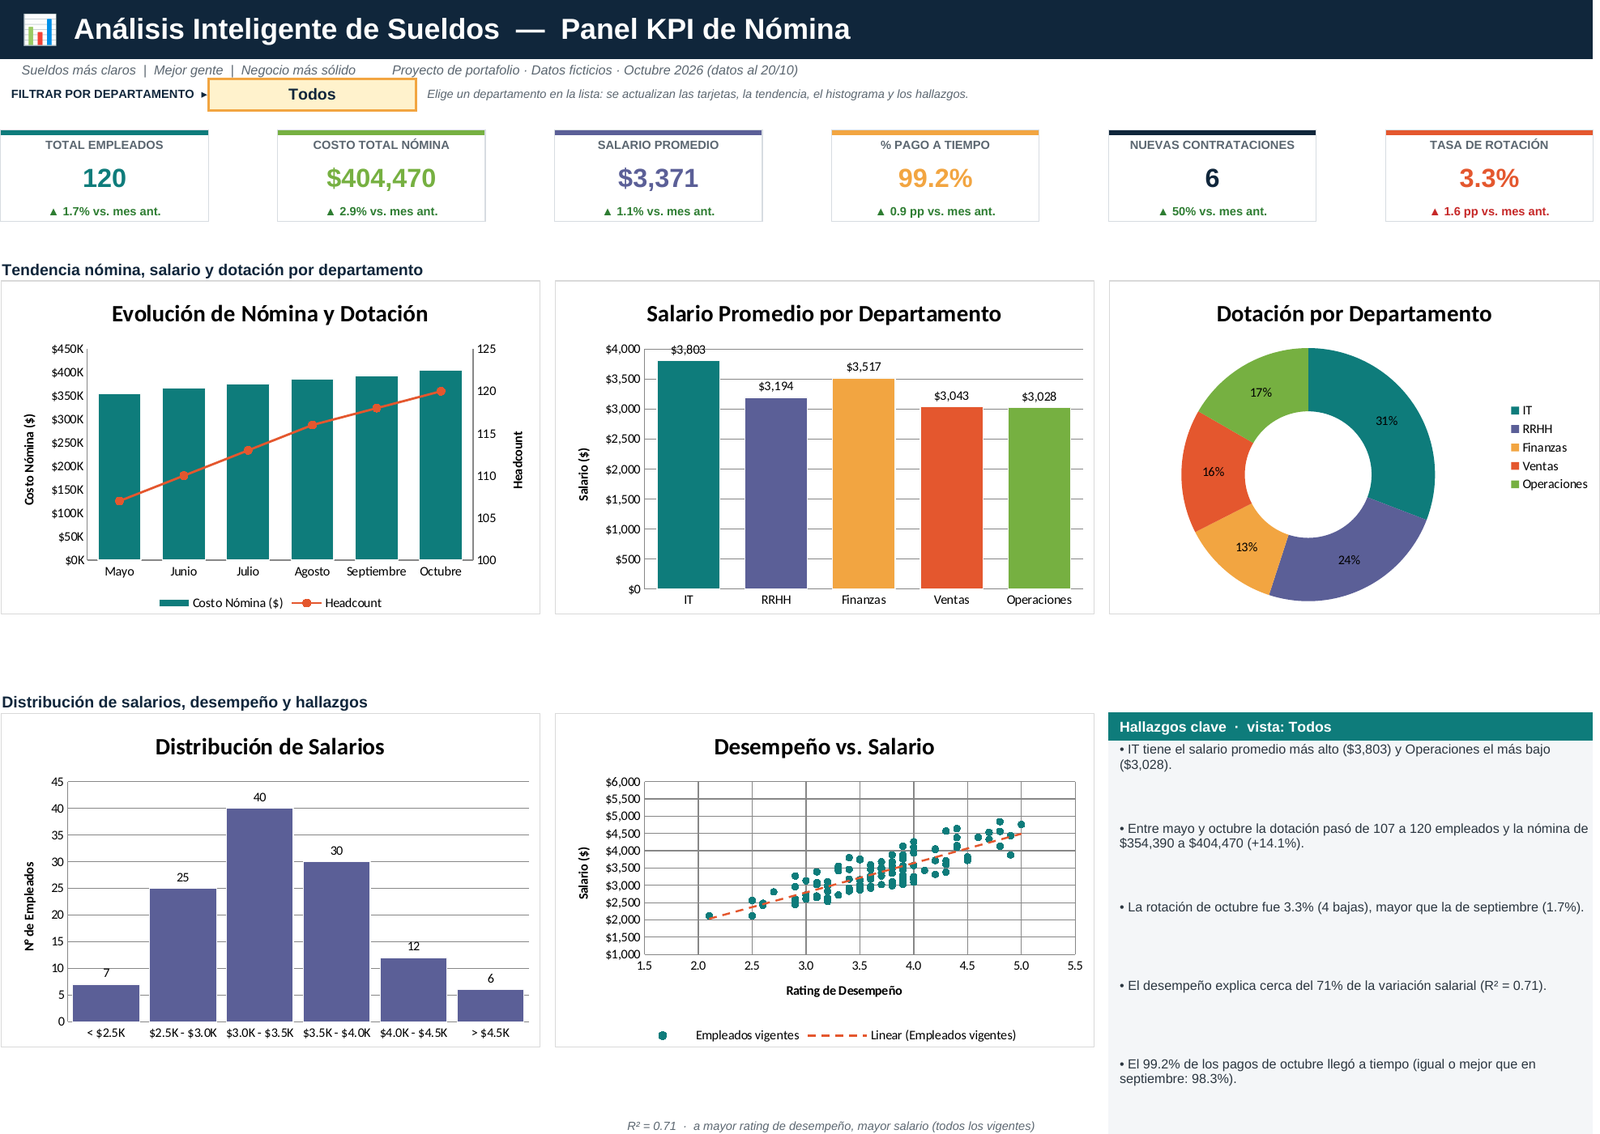

This screenshot's page, from the dashboard's own definition file:
{"tool":"powerbi","page":{"name":"Página 1","canvas":[1280,720],"ordinal":0},"visuals":[{"type":"cardVisual","fields":{"Data":["meses.Headcount"]},"box":[20,90,195,90],"z":0},{"type":"cardVisual","fields":{"Data":["meses.Etiqueta Headcount"]},"box":[20,165,195.9,90],"z":1000},{"type":"cardVisual","fields":{"Data":["empleados.Costo Nómina"]},"box":[225,90,195.9,90],"z":2000},{"type":"cardVisual","fields":{"Data":["meses.Etiqueta Costo Nómina"]},"box":[225,165,195,90],"z":3000},{"type":"cardVisual","fields":{"Data":["empleados.Salario Promedio"]},"box":[430,90,195,90],"z":4000},{"type":"cardVisual","fields":{"Data":["meses.Etiqueta Salario Promedio"]},"box":[430,165,195,90],"z":5000},{"type":"cardVisual","fields":{"Data":["empleados.% Pago a Tiempo"]},"box":[635,90,195,90],"z":6000},{"type":"cardVisual","fields":{"Data":["meses.Etiqueta Pago"]},"box":[635,165,165,90],"z":7000},{"type":"cardVisual","fields":{"Data":["empleados.Contrataciones"]},"box":[840,90,195,90],"z":8000},{"type":"cardVisual","fields":{"Data":["meses.Etiqueta Contrataciones"]},"box":[840,165,165,90],"z":9000},{"type":"cardVisual","fields":{"Data":["empleados.Rotación %"]},"box":[1045,90,195,90],"z":10000},{"type":"cardVisual","fields":{"Data":["meses.Etiqueta Rotación"]},"box":[1045,165,195,90],"z":11000},{"type":"slicer","fields":{"Values":["empleados.Departamento"]},"box":[20,15,195,90],"z":12000},{"type":"slicer","fields":{"Values":["empleados.Estado"]},"box":[225,15,195,90],"z":13000},{"type":"slicer","fields":{"Values":["empleados.Puesto"]},"box":[430,15,195,90],"z":14000},{"type":"slicer","fields":{"Values":["empleados.AnioIngreso"]},"box":[635,15,195,90],"z":15000},{"type":"lineClusteredColumnComboChart","fields":{"Category":["meses.Mes"],"Y":["empleados.Costo Nómina"],"Y2":["meses.Headcount"]},"box":[19.3,260.2,410.4,257.3],"z":16000},{"type":"clusteredColumnChart","title":"Salario Promedio por Departamento","fields":{"Category":["empleados.Departamento"],"Y":["meses.Salario Prom Vigentes"]},"box":[444.6,260.2,410.4,257.3],"z":17000},{"type":"donutChart","fields":{"Category":["empleados.Departamento"],"Y":["meses.Vigentes"]},"box":[855,275.1,410.4,193.3],"z":18000},{"type":"clusteredColumnChart","title":"Distribución salarial","fields":{"Category":["empleados.RangoSalarial"],"Y":["meses.Vigentes"]},"box":[19.3,504.1,440.2,215.6],"z":19000},{"type":"scatterChart","title":"Desempeño vs. salario","fields":{"X":["Sum(empleados.Rating)"],"Y":["Sum(empleados.Salario)"],"Category":["empleados.ID"]},"box":[459,517,396,203],"z":20000},{"type":"cardVisual","fields":{"Data":["meses.Hallazgo Rotación"]},"box":[844.3,490,215.7,222.9],"z":21000},{"type":"cardVisual","fields":{"Data":["meses.R2 Desempeño vs Salario"]},"box":[1072.9,490,192.9,222.9],"z":22000}]}

Visuals, with their boxes on the page's 1280x720 design canvas (x1, y1, x2, y2). These are canvas units, not pixel positions in the 1600x1134 screenshot, which may show the page scaled, cropped or inside an application window:
cardVisual - meses.Headcount: bbox(20, 90, 215, 180)
cardVisual - meses.Etiqueta Headcount: bbox(20, 165, 216, 255)
cardVisual - empleados.Costo Nómina: bbox(225, 90, 421, 180)
cardVisual - meses.Etiqueta Costo Nómina: bbox(225, 165, 420, 255)
cardVisual - empleados.Salario Promedio: bbox(430, 90, 625, 180)
cardVisual - meses.Etiqueta Salario Promedio: bbox(430, 165, 625, 255)
cardVisual - empleados.% Pago a Tiempo: bbox(635, 90, 830, 180)
cardVisual - meses.Etiqueta Pago: bbox(635, 165, 800, 255)
cardVisual - empleados.Contrataciones: bbox(840, 90, 1035, 180)
cardVisual - meses.Etiqueta Contrataciones: bbox(840, 165, 1005, 255)
cardVisual - empleados.Rotación %: bbox(1045, 90, 1240, 180)
cardVisual - meses.Etiqueta Rotación: bbox(1045, 165, 1240, 255)
slicer - empleados.Departamento: bbox(20, 15, 215, 105)
slicer - empleados.Estado: bbox(225, 15, 420, 105)
slicer - empleados.Puesto: bbox(430, 15, 625, 105)
slicer - empleados.AnioIngreso: bbox(635, 15, 830, 105)
lineClusteredColumnComboChart - meses.Mes x empleados.Costo Nómina: bbox(19, 260, 430, 518)
"Salario Promedio por Departamento" clusteredColumnChart: bbox(445, 260, 855, 518)
donutChart - empleados.Departamento x meses.Vigentes: bbox(855, 275, 1265, 468)
"Distribución salarial" clusteredColumnChart: bbox(19, 504, 460, 720)
"Desempeño vs. salario" scatterChart: bbox(459, 517, 855, 720)
cardVisual - meses.Hallazgo Rotación: bbox(844, 490, 1060, 713)
cardVisual - meses.R2 Desempeño vs Salario: bbox(1073, 490, 1266, 713)
